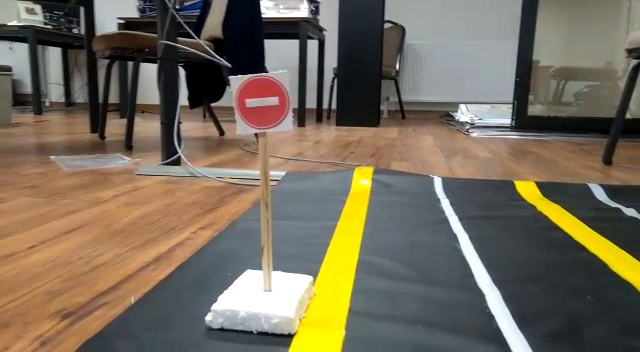girisi_olmayan_yol: (230, 71, 291, 131)
